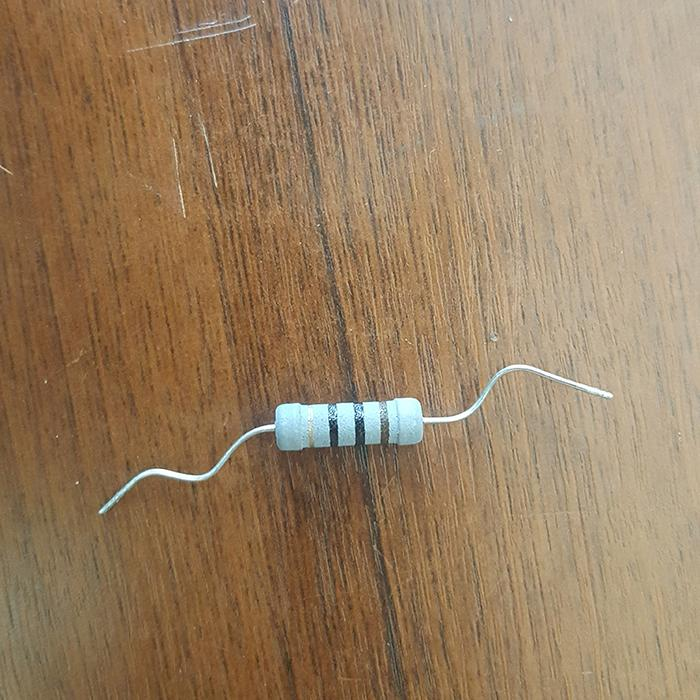resistor: (271, 396, 427, 451)
